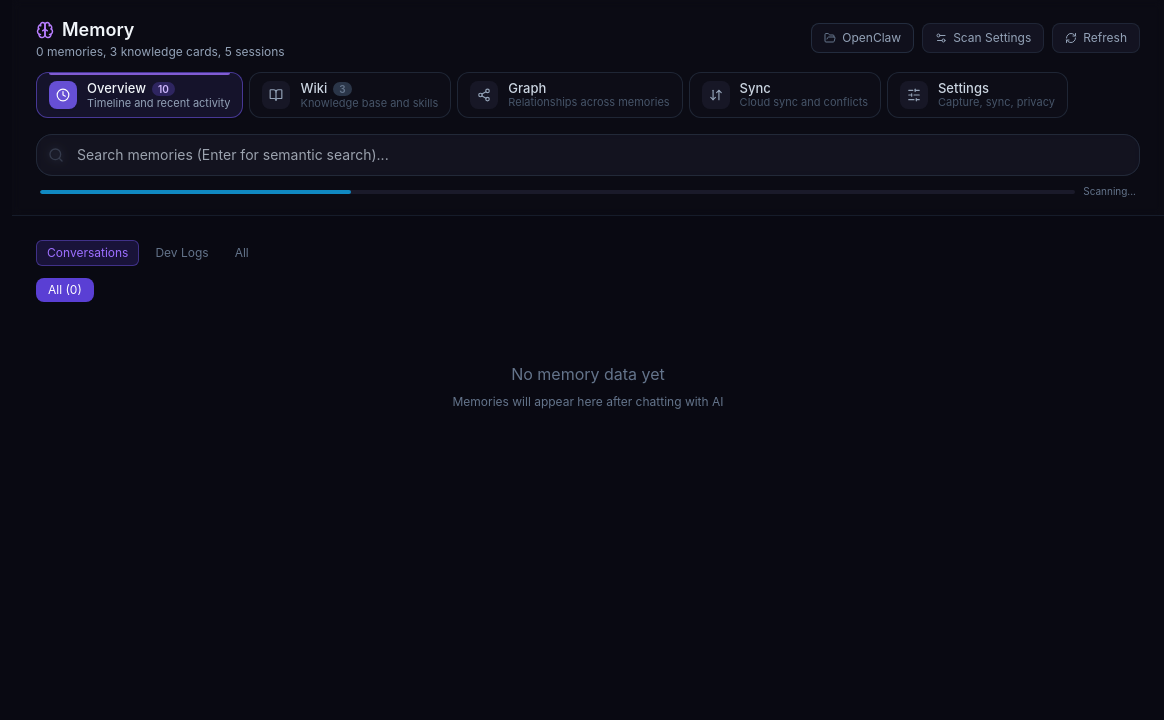
Test: Memory Page (user flows) › flow: Wiki tab shows cards in sidebar and overview
This screenshot has width=1164, height=720.
# Switch to Wiki tab
Click the text "Wiki": (314, 88) 300,82 -> 327,95
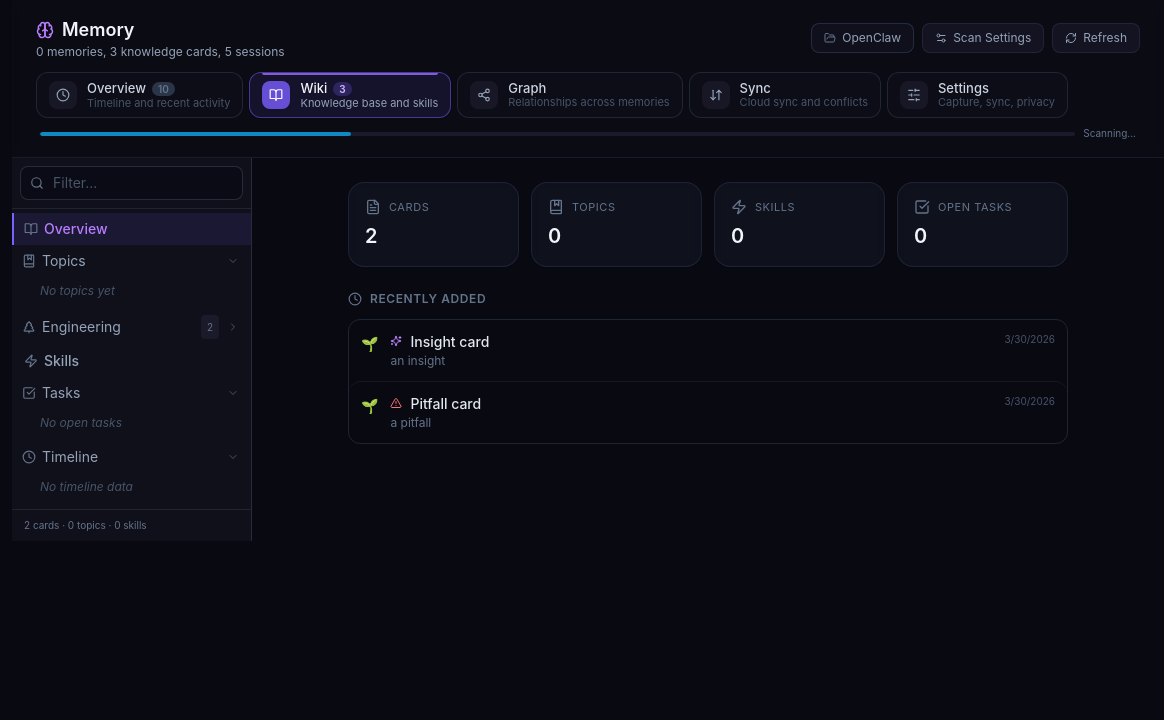
Expected: the text "Pitfall card" is shown, 410,394 -> 481,413
Expected: the text "Insight card" is shown, 410,332 -> 489,351
Expected: the button "Engineering" is shown, 42,317 -> 195,337
